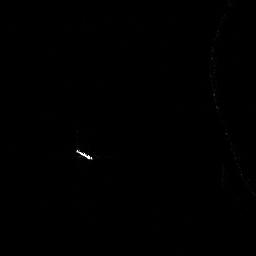ship: (73, 147, 94, 162)
